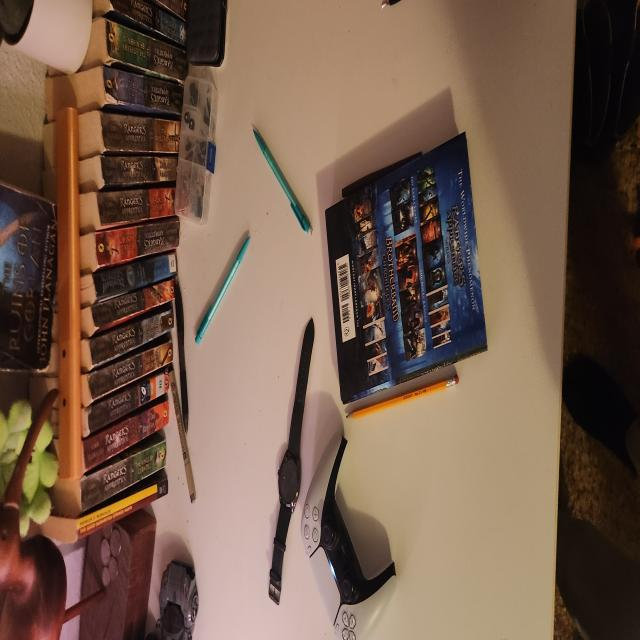Book: (322, 132, 488, 418)
Controller: (320, 446, 393, 611)
Watch: (266, 320, 315, 605)
